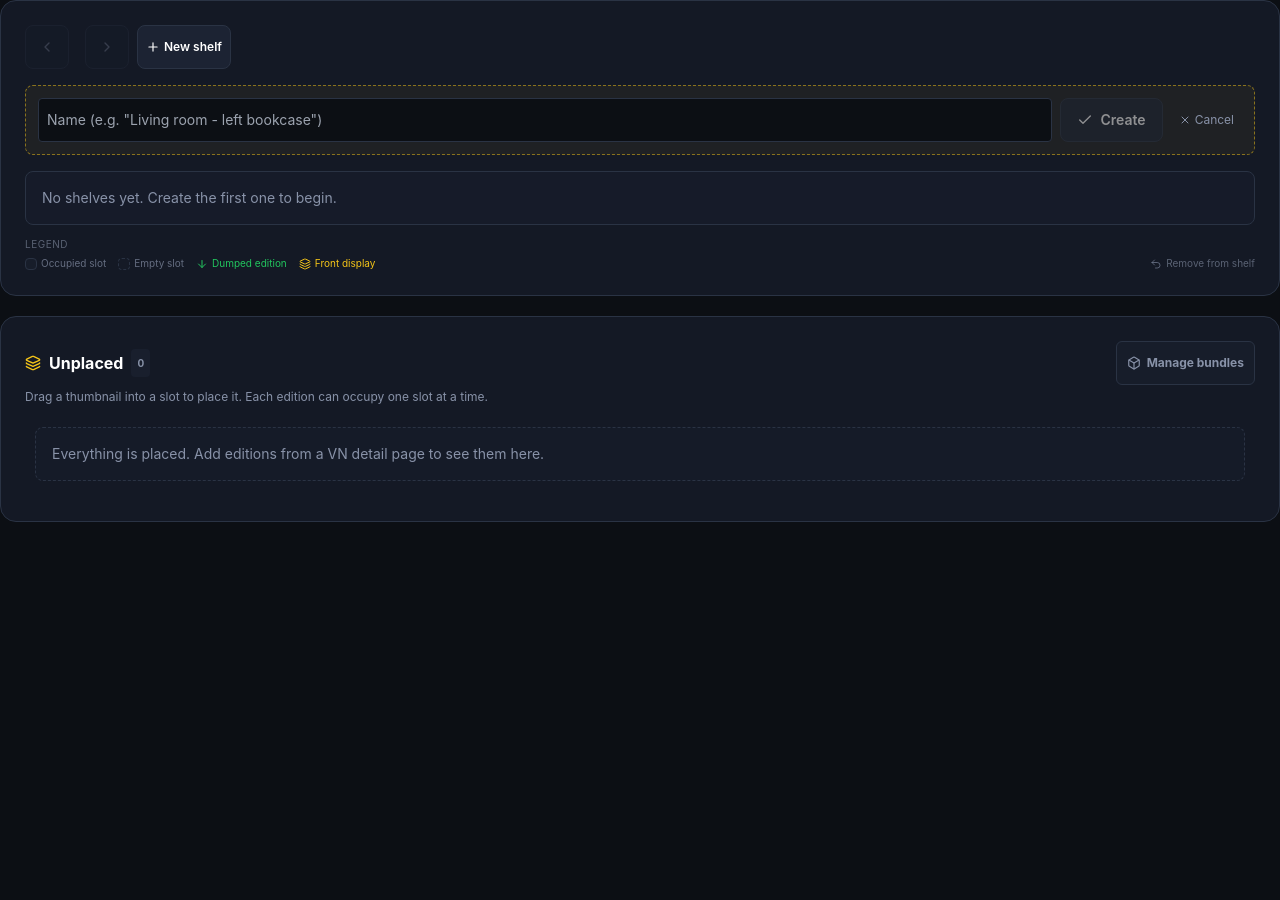
Test: ShelfLayoutEditor branches › ignores duplicate create submissions while the first request is pending
Type "Pending shelf" into the field labelled "Name (e.g. \"Living room - left bookcase\")" at (545, 120), box [38,98,1052,142]
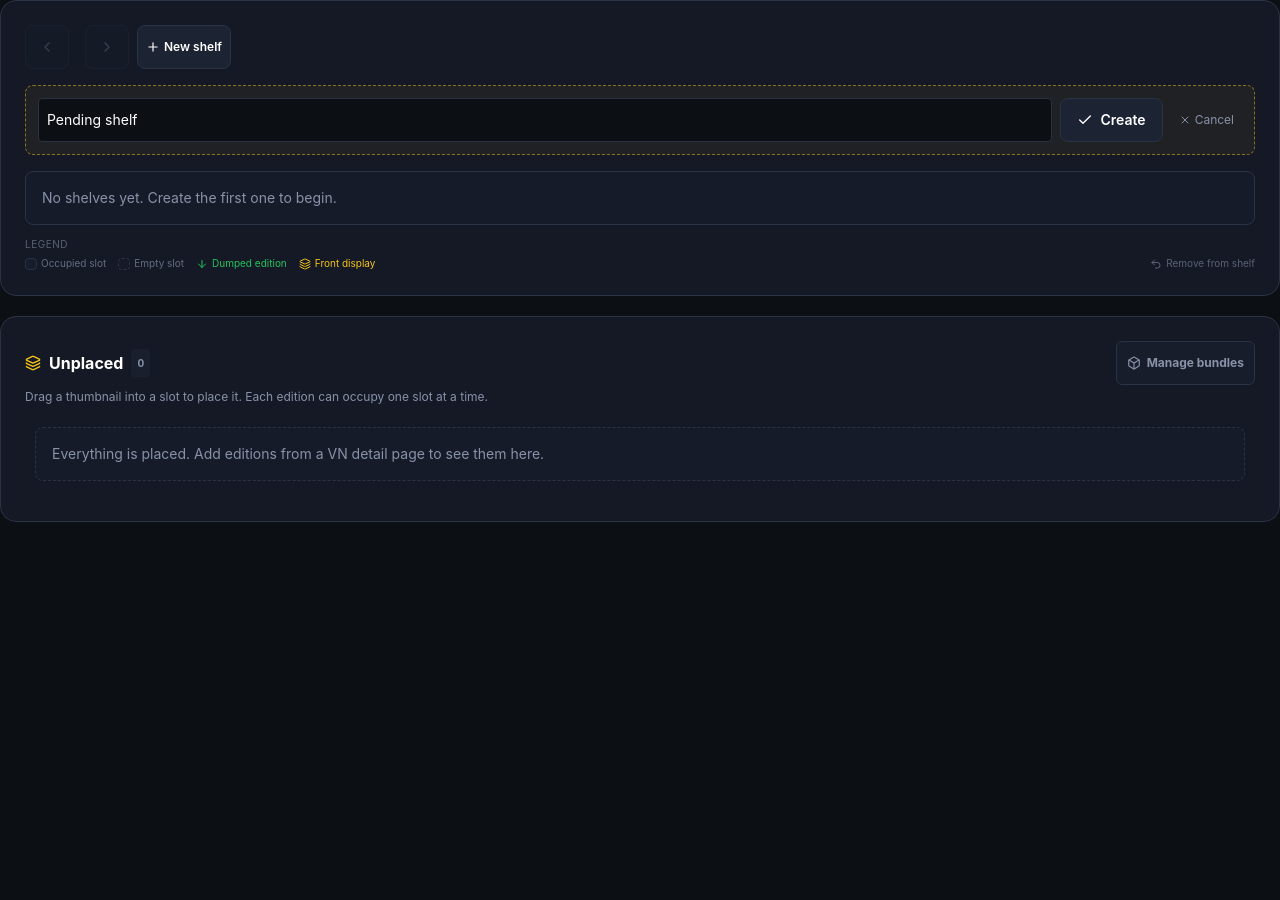
Press Enter in the field named "Name", box [38,98,1052,142]
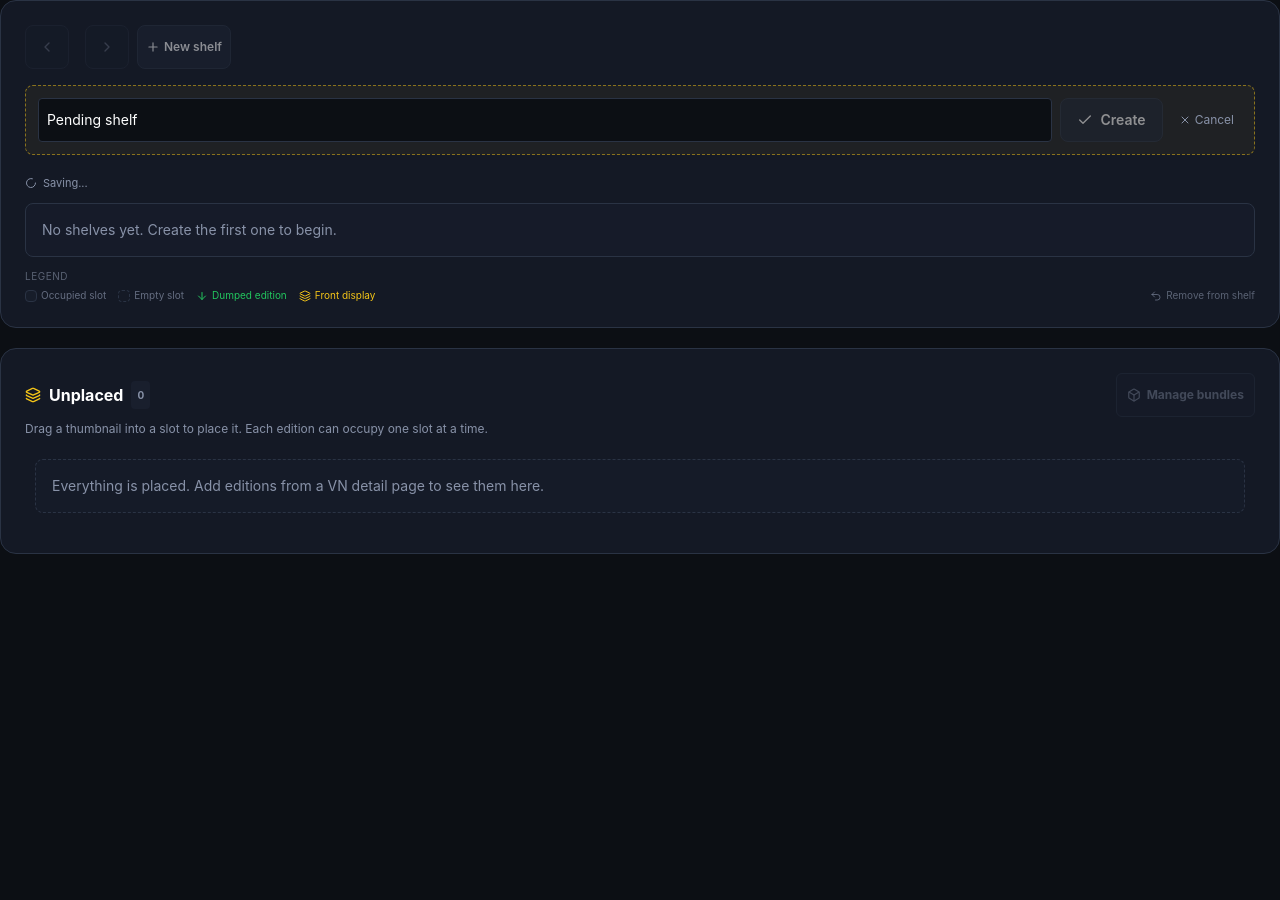
Press Enter in the field named "Name", box [38,98,1052,142]
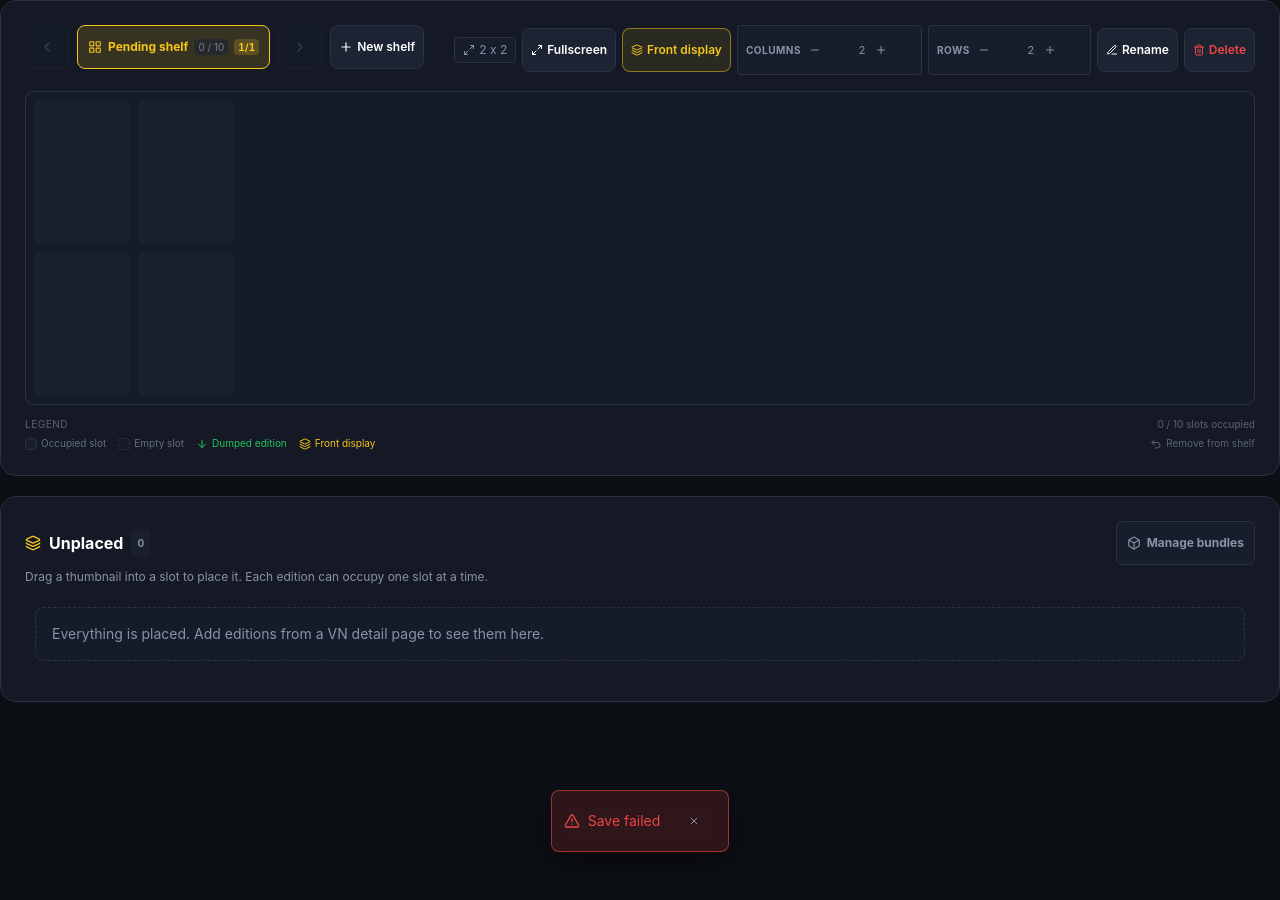
Result: the tab "Pending shelf 0 / 10 1/1" is shown at [77,25,270,69]
